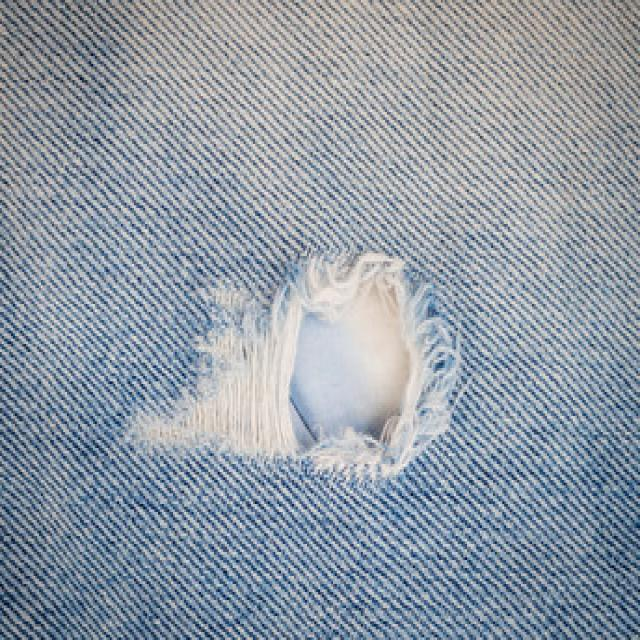Hole: (127, 253, 461, 480)
